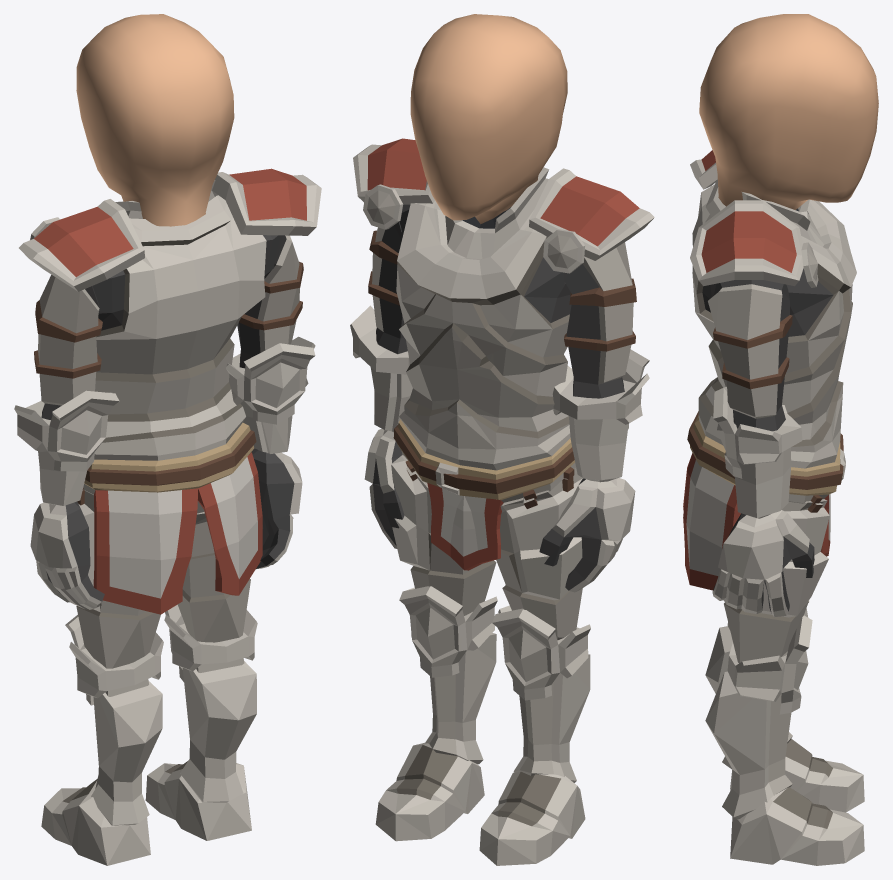
The model's file is statictest.fbx.
The picture shows the model from 3 angles, left to right: view 1: azimuth 30°, elevation 25°; view 2: azimuth 150°, elevation 25°; view 3: azimuth 270°, elevation 25°; orthographic projection.
Visible parts, largest first — view 1: UpperTorso, LowerTorso, Head, RightLowerLeg, LeftLowerLeg, LeftLowerArm, LeftUpperArm, RightLowerArm, LeftHand, LeftFoot, RightUpperLeg, LeftUpperLeg (+3 smaller); view 2: UpperTorso, Head, LowerTorso, LeftLowerLeg, RightLowerLeg, LeftUpperLeg, LeftUpperArm, LeftFoot, RightFoot, LeftLowerArm, RightUpperLeg, LeftHand (+3 smaller); view 3: Head, UpperTorso, LowerTorso, RightLowerLeg, RightUpperArm, RightFoot, RightHand, RightLowerArm, RightUpperLeg, LeftFoot, LeftLowerLeg.
Boxes of the visible parts, bbox=[...] form: UpperTorso: bbox=[19, 168, 321, 421]; LowerTorso: bbox=[82, 389, 262, 614]; Head: bbox=[76, 14, 234, 226]; RightLowerLeg: bbox=[164, 604, 257, 802]; LeftLowerLeg: bbox=[65, 614, 163, 825]; LeftLowerArm: bbox=[14, 390, 119, 505]; LeftUpperArm: bbox=[34, 274, 102, 405]; RightLowerArm: bbox=[226, 336, 315, 453]; LeftHand: bbox=[30, 501, 104, 609]; LeftFoot: bbox=[41, 779, 150, 865]; RightUpperLeg: bbox=[177, 512, 250, 642]; LeftUpperLeg: bbox=[76, 490, 160, 668]; UpperTorso: bbox=[353, 138, 654, 417]; Head: bbox=[410, 14, 567, 223]; LowerTorso: bbox=[393, 388, 575, 570]; LeftLowerLeg: bbox=[492, 605, 590, 782]; RightLowerLeg: bbox=[399, 586, 497, 764]; LeftUpperLeg: bbox=[496, 467, 582, 640]; LeftUpperArm: bbox=[564, 242, 636, 384]; LeftFoot: bbox=[479, 771, 585, 865]; RightFoot: bbox=[375, 742, 484, 841]; LeftLowerArm: bbox=[552, 349, 649, 482]; RightUpperLeg: bbox=[391, 455, 496, 615]; LeftHand: bbox=[539, 478, 635, 592]; Head: bbox=[699, 14, 878, 209]; UpperTorso: bbox=[690, 150, 856, 424]; LowerTorso: bbox=[683, 377, 845, 590]; RightLowerLeg: bbox=[705, 615, 812, 819]; RightUpperArm: bbox=[708, 280, 792, 418]; RightFoot: bbox=[730, 787, 864, 865]; RightHand: bbox=[712, 510, 814, 616]; RightLowerArm: bbox=[713, 386, 802, 518]; RightUpperLeg: bbox=[724, 499, 829, 663]; LeftFoot: bbox=[730, 739, 864, 812]; LeftLowerLeg: bbox=[705, 599, 809, 769].
Bounding box in the file's own units: 2.16 × 5.78 × 1.27.
